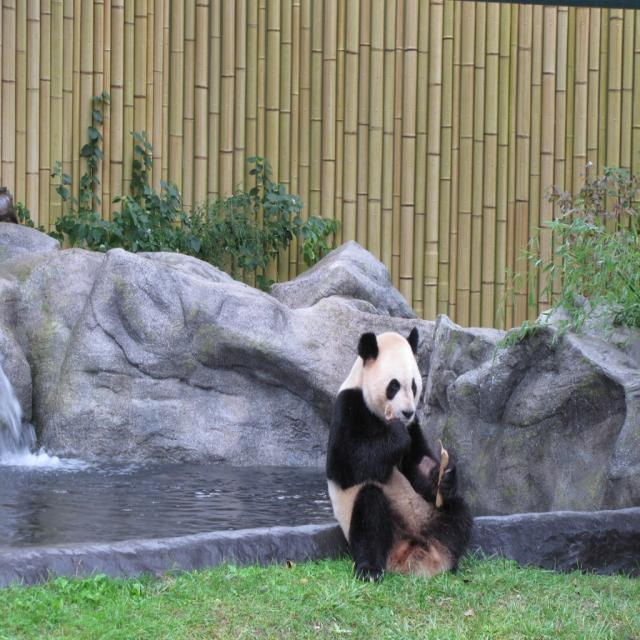panda: (325, 314, 468, 585)
